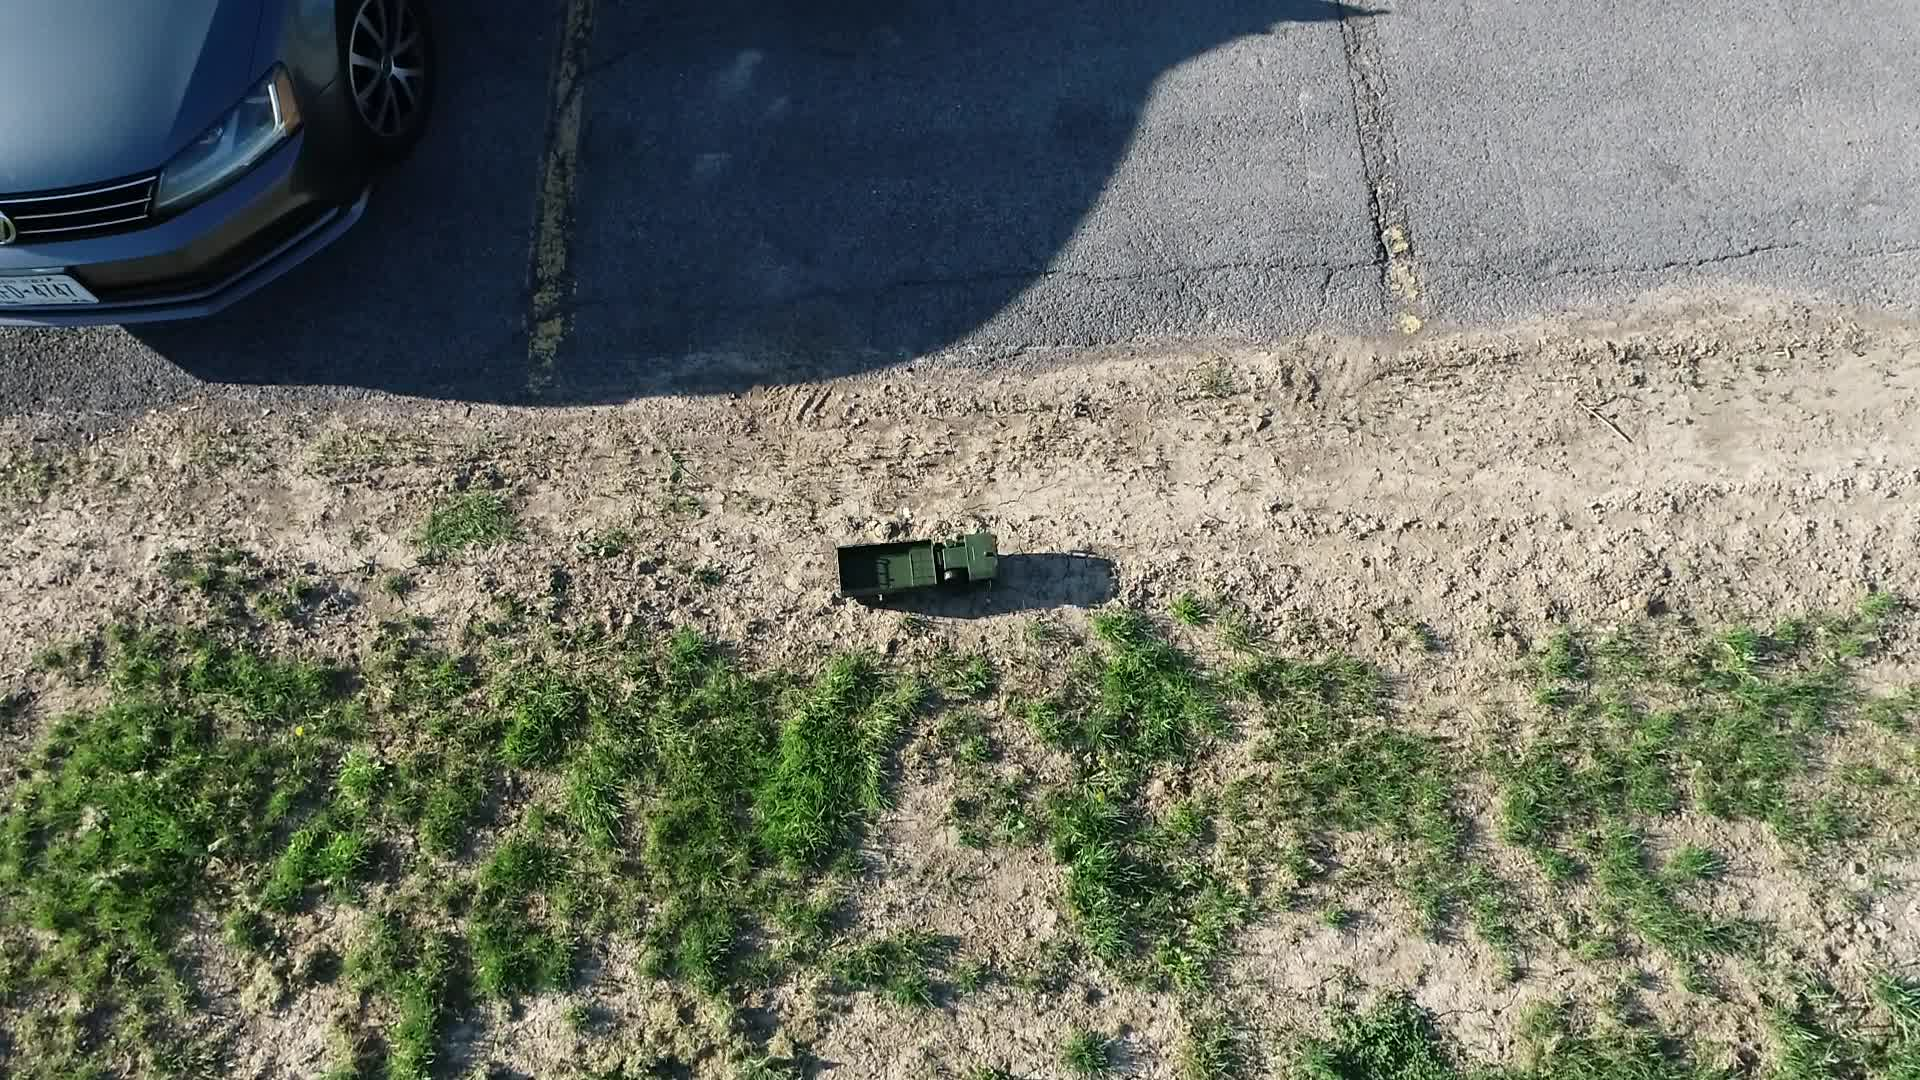transporter9: (831, 524, 1005, 601)
